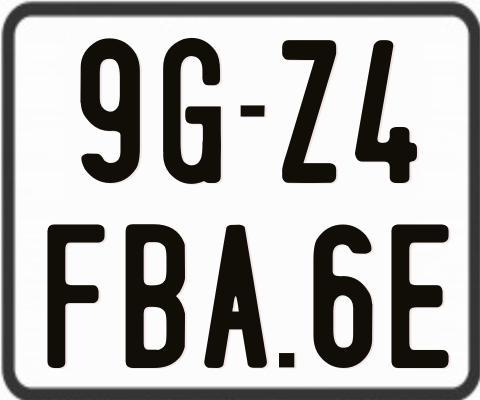4: (354, 38, 416, 186)
6: (310, 224, 375, 371)
9: (80, 37, 145, 183)
A: (201, 222, 264, 371)
B: (123, 222, 183, 372)
E: (391, 224, 451, 373)
F: (44, 222, 108, 366)
G: (162, 36, 220, 188)
Z: (282, 40, 338, 185)
